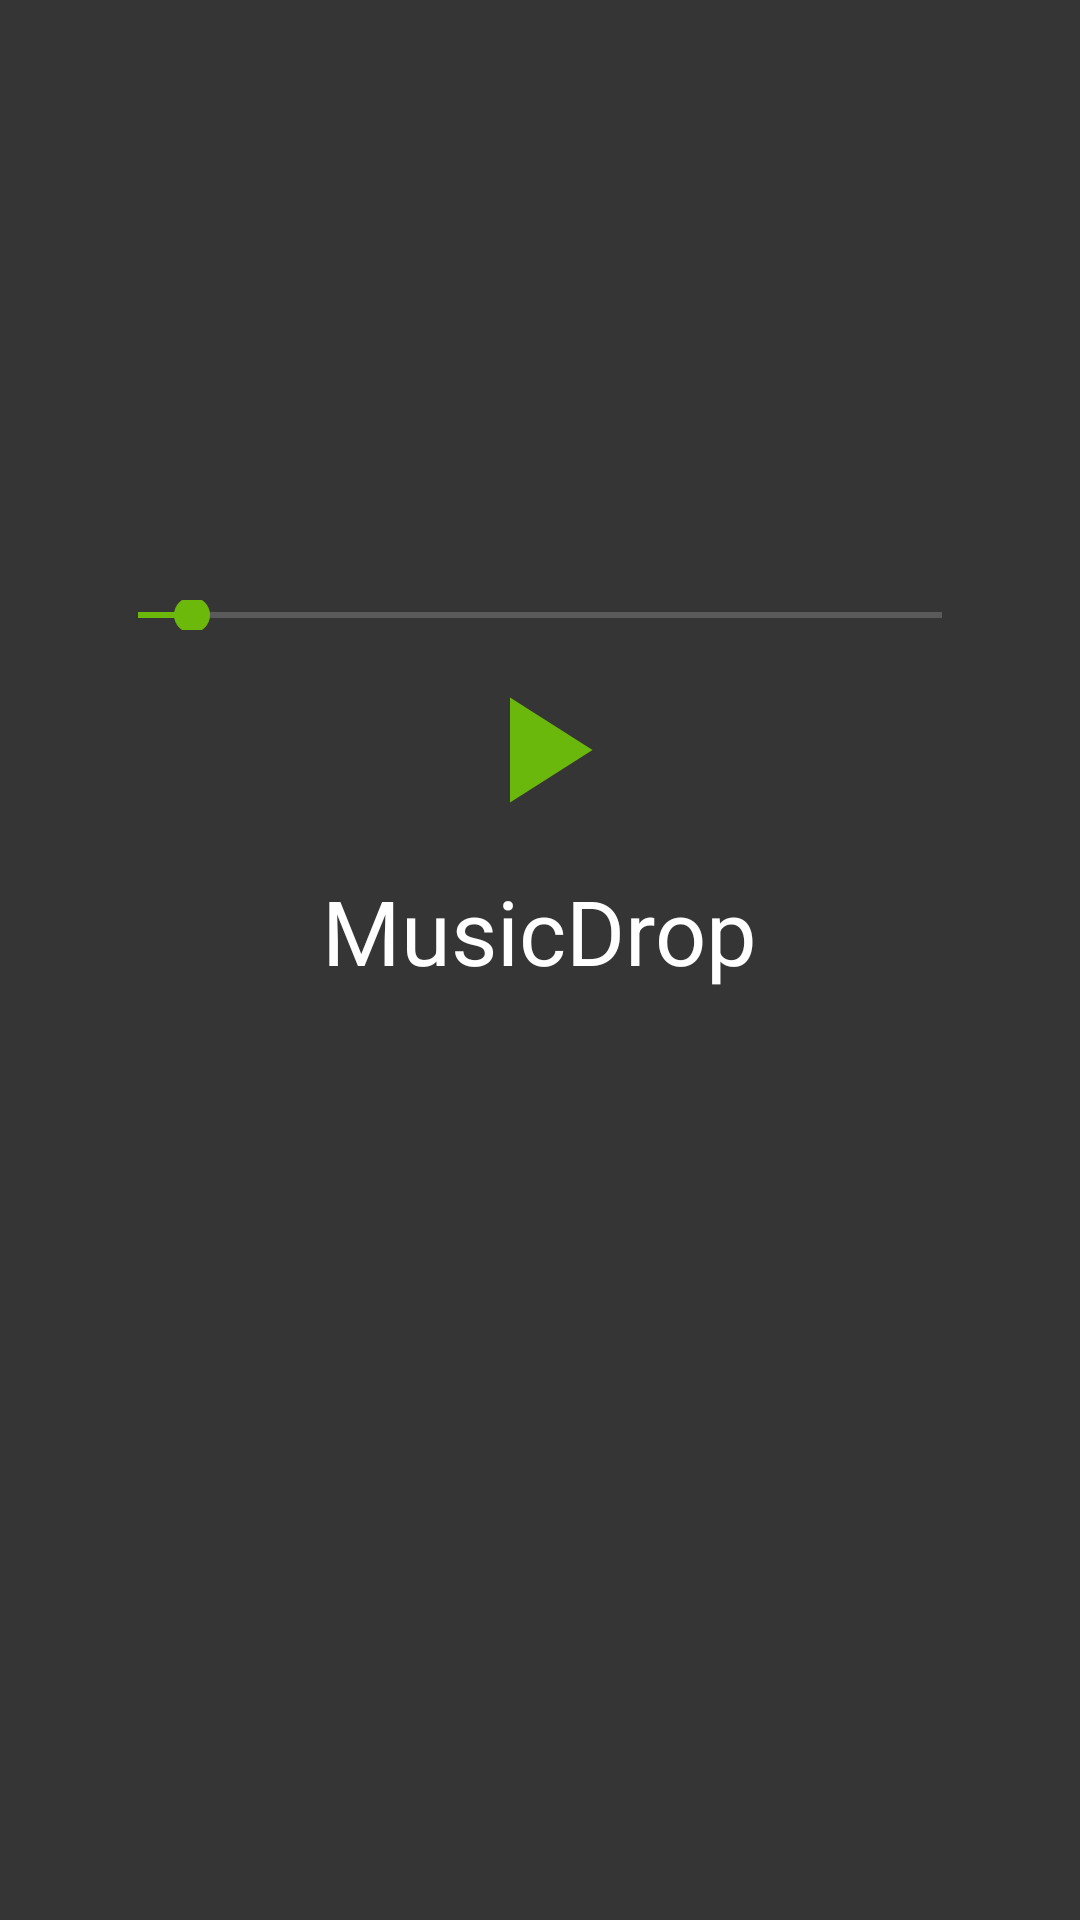

Point at icon controls on the screen. Image size 1080px×1920px, points as point (x, y).
play: point (551, 750)
